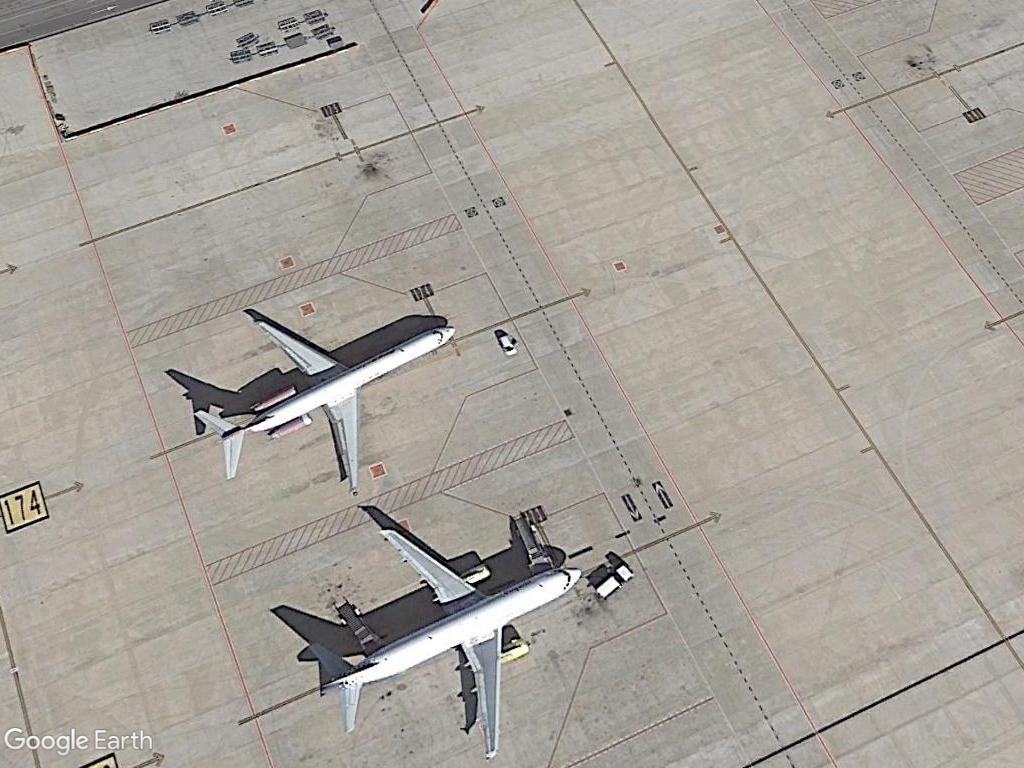airliner: (305, 528, 582, 762)
chartered: (181, 304, 465, 496)
stairtruck: (506, 503, 568, 570)
